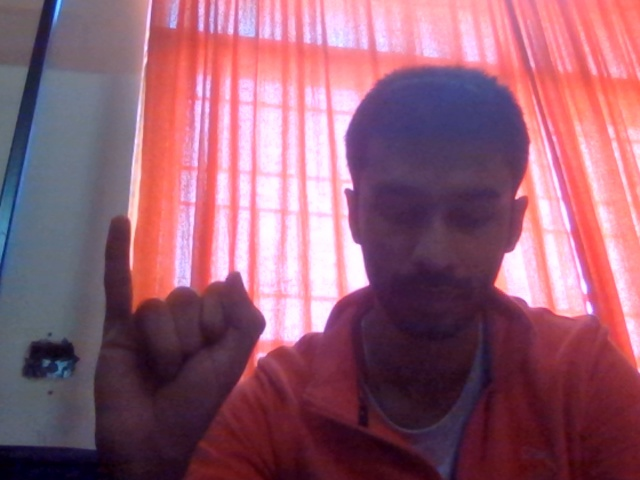I: (76, 193, 289, 480)
